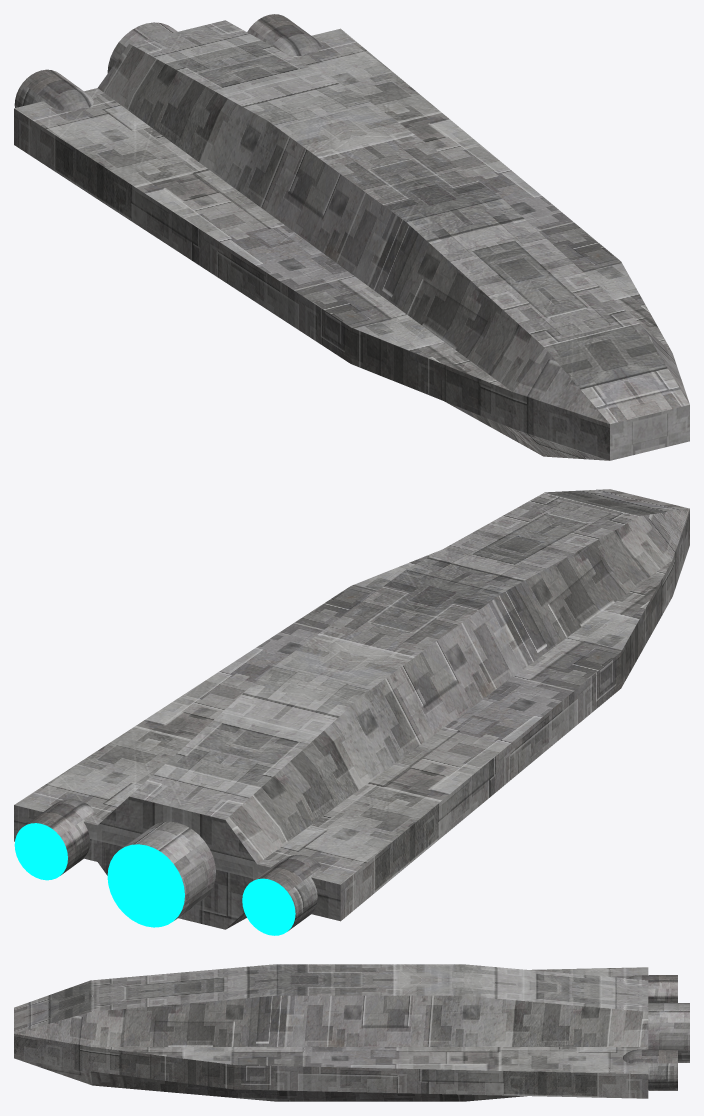
The model's file is wind.glb.
3 views of the same model, one above another, from view 1: azimuth 30°, elevation 25°; view 2: azimuth 150°, elevation 25°; view 3: azimuth 270°, elevation 25° (orthographic). The views are drawn at different scales.
Parts seen in each view (by area): view 1: Wind; view 2: Wind; view 3: Wind.
Boxes of the visible parts, x1,y1,x2,y2 form: Wind: [14, 14, 689, 460]; Wind: [14, 489, 689, 935]; Wind: [14, 964, 689, 1101].
Bounding box in the file's own units: 0.0466 × 0.0215 × 0.1243.
2 materials, 1 textured.
